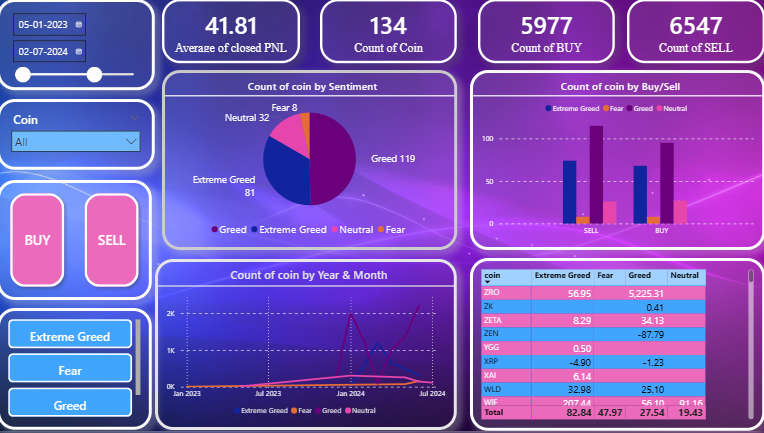

The dashboard page shown, as its layout file describes it:
{"tool":"powerbi","page":{"name":"Page 1","canvas":[1280,720],"ordinal":0},"visuals":[{"type":"pieChart","fields":{"Category":["clean_trader_sentiment (1).classification"],"Y":["Count(clean_trader_sentiment (1).coin)"]},"box":[275,118.3,491.7,300],"z":3},{"type":"lineChart","fields":{"Series":["clean_trader_sentiment (1).classification"],"Y":["CountNonNull(clean_trader_sentiment (1).coin)"],"Category":["clean_trader_sentiment (1).date.Variation.Date Hierarchy.Year","clean_trader_sentiment (1).date.Variation.Date Hierarchy.Month"]},"box":[263.3,433.3,503.3,285],"z":5},{"type":"clusteredColumnChart","fields":{"Category":["clean_trader_sentiment (1).side"],"Series":["clean_trader_sentiment (1).classification"],"Y":["Count(clean_trader_sentiment (1).coin)"]},"box":[788.3,118.3,491.7,300],"z":6},{"type":"pivotTable","fields":{"Rows":["clean_trader_sentiment (1).coin"],"Columns":["clean_trader_sentiment (1).classification"],"Values":["Avg(clean_trader_sentiment (1).closed pnl)"]},"box":[788.3,431.7,491.7,288.3],"z":7},{"type":"slicer","fields":{"Values":["clean_trader_sentiment (1).date"]},"box":[0,0,263.3,151.7],"z":8},{"type":"slicer","fields":{"Values":["clean_trader_sentiment (1).coin"]},"box":[0,166.7,263.3,118.3],"z":9},{"type":"advancedSlicerVisual","fields":{"Values":["clean_trader_sentiment (1).side"]},"box":[0,301.7,258.3,200],"z":10},{"type":"advancedSlicerVisual","fields":{"Values":["clean_trader_sentiment (1).classification"]},"box":[0,515,258.3,203.3],"z":11},{"type":"card","title":"yum","fields":{"Values":["Avg(clean_trader_sentiment (1).closed pnl)"]},"box":[275,0,230,106.7],"z":12},{"type":"card","title":"yum","fields":{"Values":["Count(clean_trader_sentiment (1).coin)"]},"box":[538.3,0,228.3,106.7],"z":13},{"type":"card","title":"yum","fields":{"Values":["CountNonNull(clean_trader_sentiment (1).side)"]},"box":[801.7,0,228.3,106.7],"z":14},{"type":"card","title":"yum","fields":{"Values":["CountNonNull(clean_trader_sentiment (1).side)"]},"box":[1050,0,230,106.7],"z":15}]}

Visuals, with their boxes in screenshot pixels (x1, y1, x2, y2), scaled from the page's 1280x720 canvas onto the 764x433 screenshot:
pieChart - clean_trader_sentiment (1).classification x Count(clean_trader_sentiment (1).coin): [164,71,458,252]
lineChart - clean_trader_sentiment (1).classification x CountNonNull(clean_trader_sentiment (1).coin): [157,261,458,432]
clusteredColumnChart - clean_trader_sentiment (1).side x clean_trader_sentiment (1).classification: [471,71,763,252]
pivotTable - clean_trader_sentiment (1).coin x clean_trader_sentiment (1).classification: [471,260,763,432]
slicer - clean_trader_sentiment (1).date: [0,0,157,91]
slicer - clean_trader_sentiment (1).coin: [0,100,157,171]
advancedSlicerVisual - clean_trader_sentiment (1).side: [0,181,154,302]
advancedSlicerVisual - clean_trader_sentiment (1).classification: [0,310,154,432]
"yum" card: [164,0,301,64]
"yum" card: [321,0,458,64]
"yum" card: [479,0,615,64]
"yum" card: [627,0,763,64]
